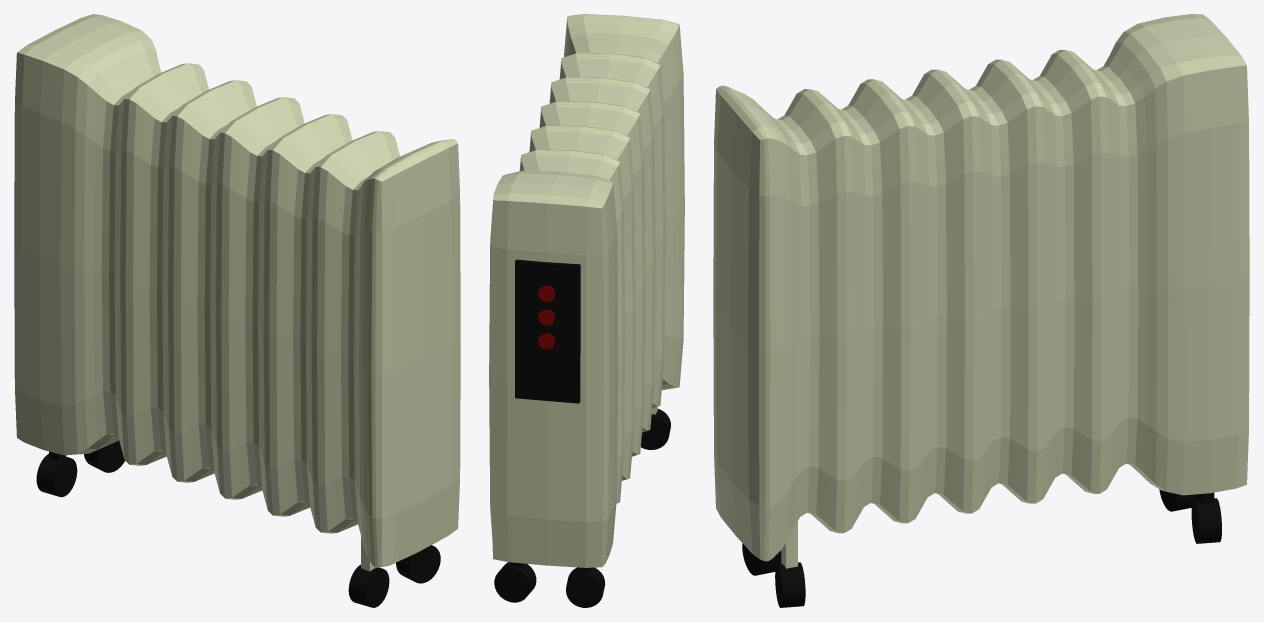
The model's file is Radiator.obj.
3 views of the same model, side by side, from view 1: azimuth 30°, elevation 25°; view 2: azimuth 150°, elevation 25°; view 3: azimuth 270°, elevation 25° (orthographic). The views are drawn at different scales.
Parts seen in each view (by area): view 1: Box20193, Cylinder023, Cylinder018, Cylinder017, Cylinder020; view 2: Box20193, Box20194, Cylinder020, Cylinder023, Cylinder018; view 3: Box20193, Cylinder017, Cylinder020.
Boxes of the visible parts, <box> form: Box20193: <box>14,14,460,567</box>; Cylinder023: <box>36,454,77,497</box>; Cylinder018: <box>348,564,389,607</box>; Cylinder017: <box>396,545,440,583</box>; Cylinder020: <box>84,440,124,472</box>; Box20193: <box>489,14,684,567</box>; Box20194: <box>515,259,580,403</box>; Cylinder020: <box>494,562,536,602</box>; Cylinder023: <box>566,567,605,607</box>; Cylinder018: <box>641,409,670,449</box>; Box20193: <box>713,14,1249,561</box>; Cylinder017: <box>775,562,805,607</box>; Cylinder020: <box>1191,498,1221,543</box>.
Bounding box in the file's own units: 123 × 215 × 215.
